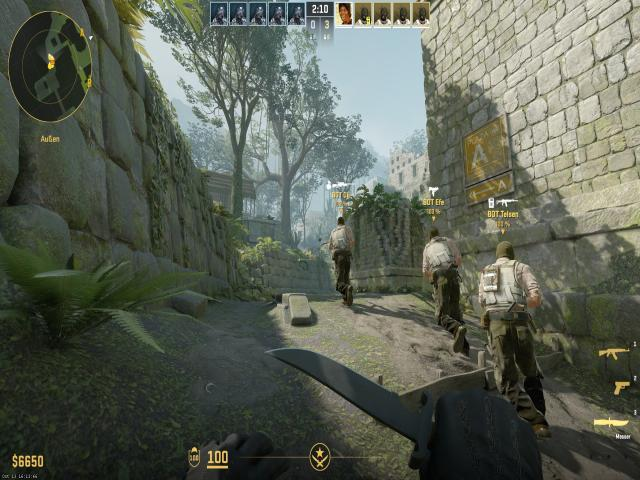Bomb: (481, 261, 507, 300)
T: (482, 234, 542, 406), (424, 224, 463, 346), (326, 214, 360, 303)
T-Head: (493, 236, 519, 267), (423, 226, 443, 245), (337, 216, 348, 230)
